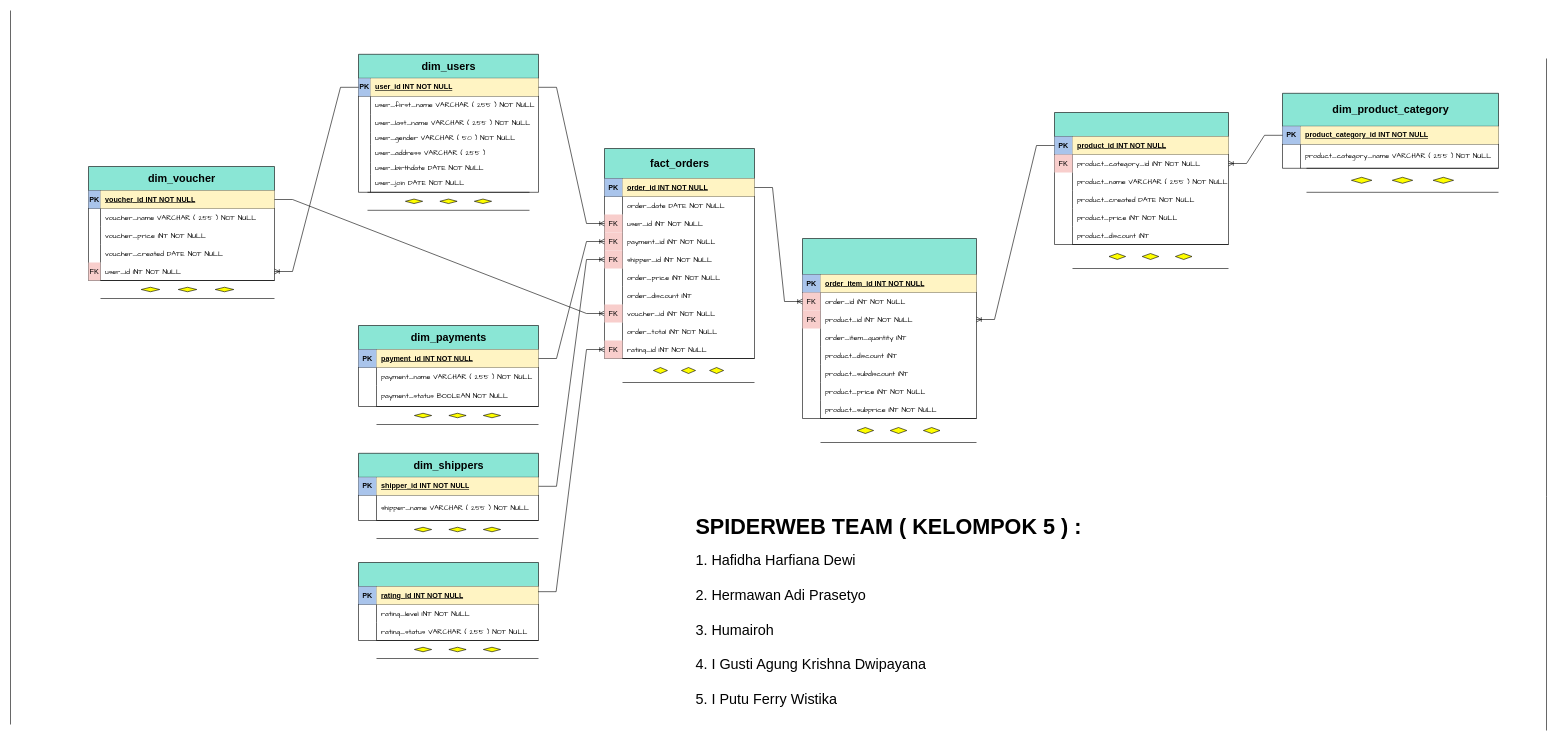
Some shapes in this 1558 by 742 pixel diagram are drawn without their labels. Each missing label, with the box of its shape:
dim_products: (1054, 112, 1228, 244)
dim_ratings: (358, 562, 538, 640)
fact_order_items: (802, 238, 976, 418)
